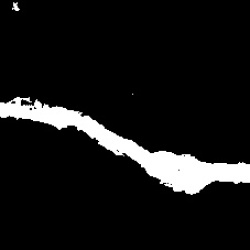crack: (1, 97, 248, 197)
pinhole: (10, 2, 22, 13)
